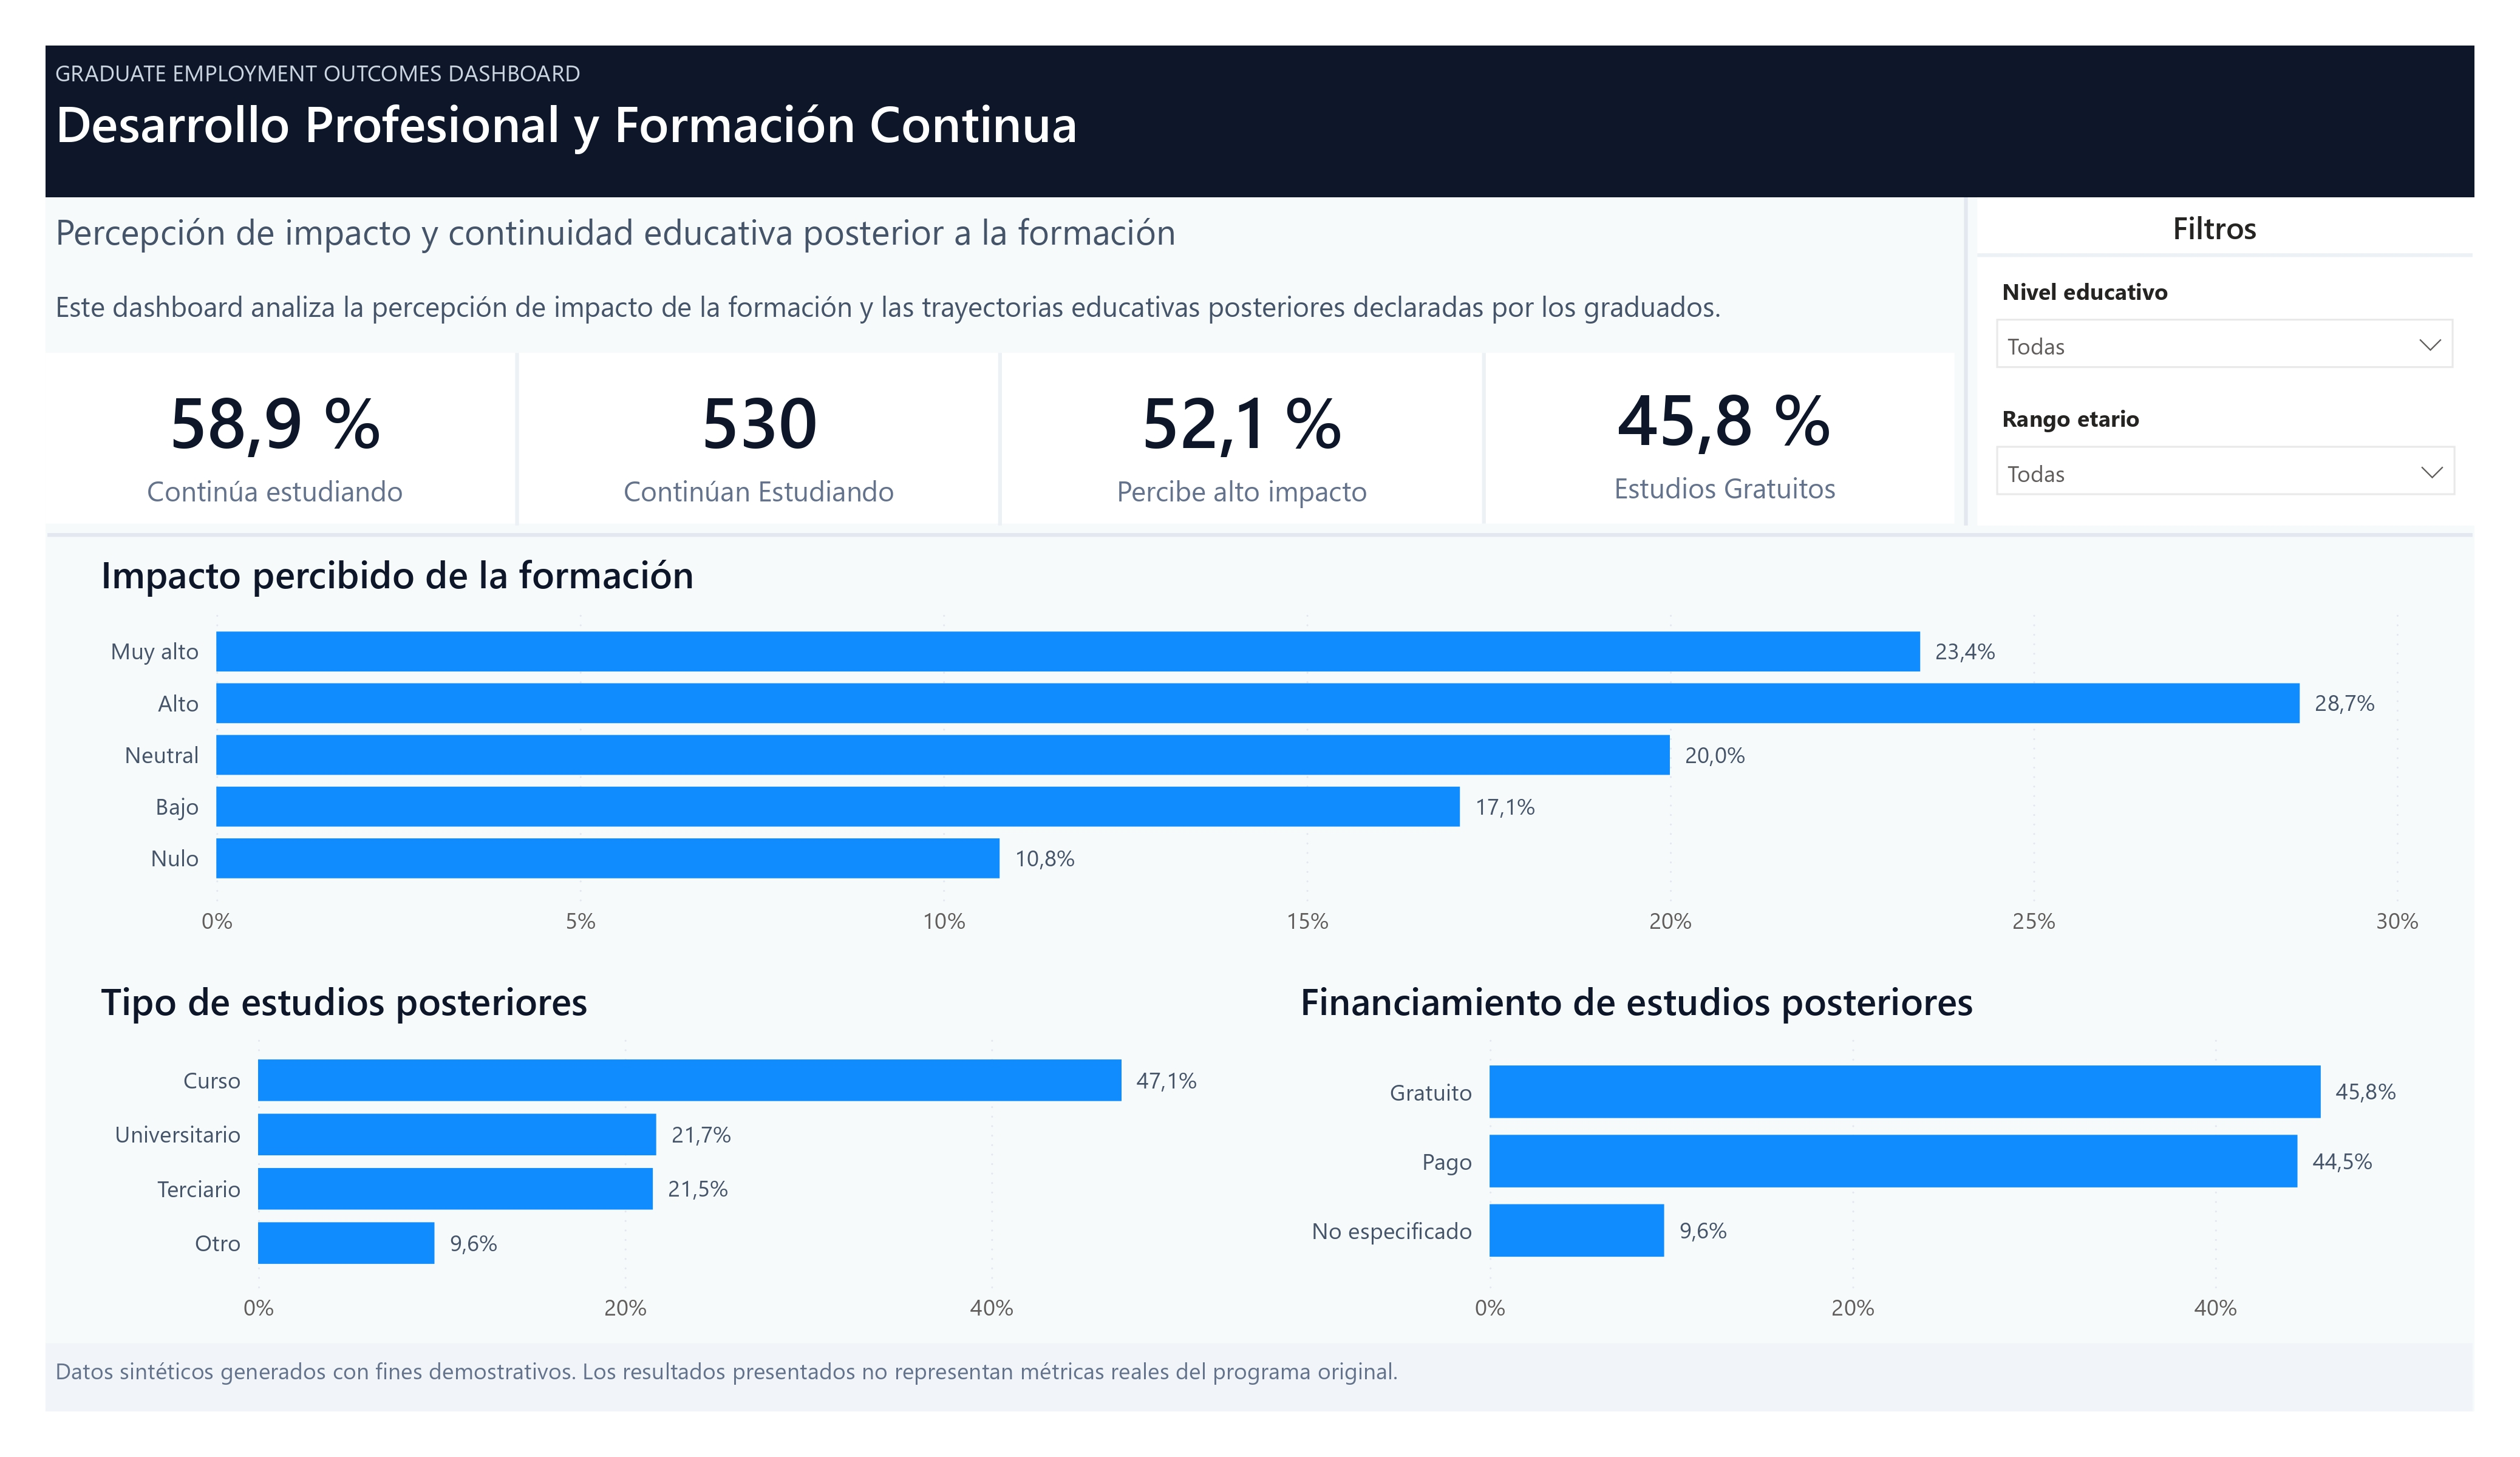

What the dashboard file says about the page in this screenshot:
{"tool":"powerbi","page":{"name":"Página 3","canvas":[1280,720],"ordinal":2},"visuals":[{"type":"shape","box":[0,161.6,1005.7,90.6],"z":0},{"type":"shape","box":[0,0,1280,80],"z":1000},{"type":"card","fields":{"Values":["medidas.Continúan Estudiando"]},"box":[254.6,161.7,242,91.7],"z":2000},{"type":"card","fields":{"Values":["medidas.% Continúan Estudiando"]},"box":[0,161.7,242,91.7],"z":3000},{"type":"card","fields":{"Values":["medidas.% Mejora Alta"]},"box":[509.1,161.7,242.5,91.7],"z":4000},{"type":"card","fields":{"Values":["medidas.% Estudios Gratuitos"]},"box":[763.7,160.5,242.5,91.7],"z":5000},{"type":"textbox","box":[0,0,692.5,63.8],"z":6000},{"type":"textbox","box":[0,80.1,1018.4,80.1],"z":7000},{"type":"shape","box":[242.5,161.7,12.1,91.7],"z":8000},{"type":"shape","box":[751.6,161.7,12.1,90.5],"z":9000},{"type":"shape","box":[497.1,161.7,12.1,91.7],"z":10000},{"type":"shape","box":[1018.3,80.2,261.9,172.7],"z":11000},{"type":"textbox","box":[1116,79.6,66.4,36.2],"z":12000},{"type":"slicer","fields":{"Values":["survey_synthetic.Nivel Educativo"]},"box":[1018.2,115.8,261,68],"z":13000},{"type":"slicer","fields":{"Values":["survey_synthetic.Grupo Etario ES"]},"box":[1018.2,183.4,261.8,70],"z":14000},{"type":"shape","box":[1005.9,80.2,12.4,172.7],"z":15000},{"type":"shape","box":[1018.2,105,260.6,10.9],"z":16000},{"type":"shape","box":[1.1,251.8,1278,12.4],"z":17000},{"type":"textbox","box":[0,684.1,1278.8,36.2],"z":18000},{"type":"barChart","title":"Impacto percibido de la formación","fields":{"Y":["medidas.Respuestas"],"Category":["survey_synthetic.Impacto ES"]},"box":[24.1,264.2,1231.8,216],"z":19000},{"type":"barChart","title":"Tipo de estudios posteriores","fields":{"Y":["CountNonNull(survey_post_training.graduate_id)"],"Category":["survey_post_training.study_category"]},"box":[24.1,488.6,600,195.4],"z":20000},{"type":"barChart","title":"Financiamiento de estudios posteriores","fields":{"Y":["CountNonNull(survey_post_training.graduate_id)"],"Category":["survey_post_training.study_cost"]},"box":[656.3,488.6,600,195.4],"z":21000}]}

Visuals, with their boxes on the page's 1280x720 design canvas (x1, y1, x2, y2). These are canvas units, not pixel positions in the 2520x1457 screenshot, which may show the page scaled, cropped or inside an application window:
shape: select_region(0, 162, 1006, 252)
shape: select_region(0, 0, 1280, 80)
card - medidas.Continúan Estudiando: select_region(255, 162, 497, 253)
card - medidas.% Continúan Estudiando: select_region(0, 162, 242, 253)
card - medidas.% Mejora Alta: select_region(509, 162, 752, 253)
card - medidas.% Estudios Gratuitos: select_region(764, 160, 1006, 252)
textbox: select_region(0, 0, 692, 64)
textbox: select_region(0, 80, 1018, 160)
shape: select_region(242, 162, 255, 253)
shape: select_region(752, 162, 764, 252)
shape: select_region(497, 162, 509, 253)
shape: select_region(1018, 80, 1280, 253)
textbox: select_region(1116, 80, 1182, 116)
slicer - survey_synthetic.Nivel Educativo: select_region(1018, 116, 1279, 184)
slicer - survey_synthetic.Grupo Etario ES: select_region(1018, 183, 1280, 253)
shape: select_region(1006, 80, 1018, 253)
shape: select_region(1018, 105, 1279, 116)
shape: select_region(1, 252, 1279, 264)
textbox: select_region(0, 684, 1279, 720)
"Impacto percibido de la formación" barChart: select_region(24, 264, 1256, 480)
"Tipo de estudios posteriores" barChart: select_region(24, 489, 624, 684)
"Financiamiento de estudios posteriores" barChart: select_region(656, 489, 1256, 684)
